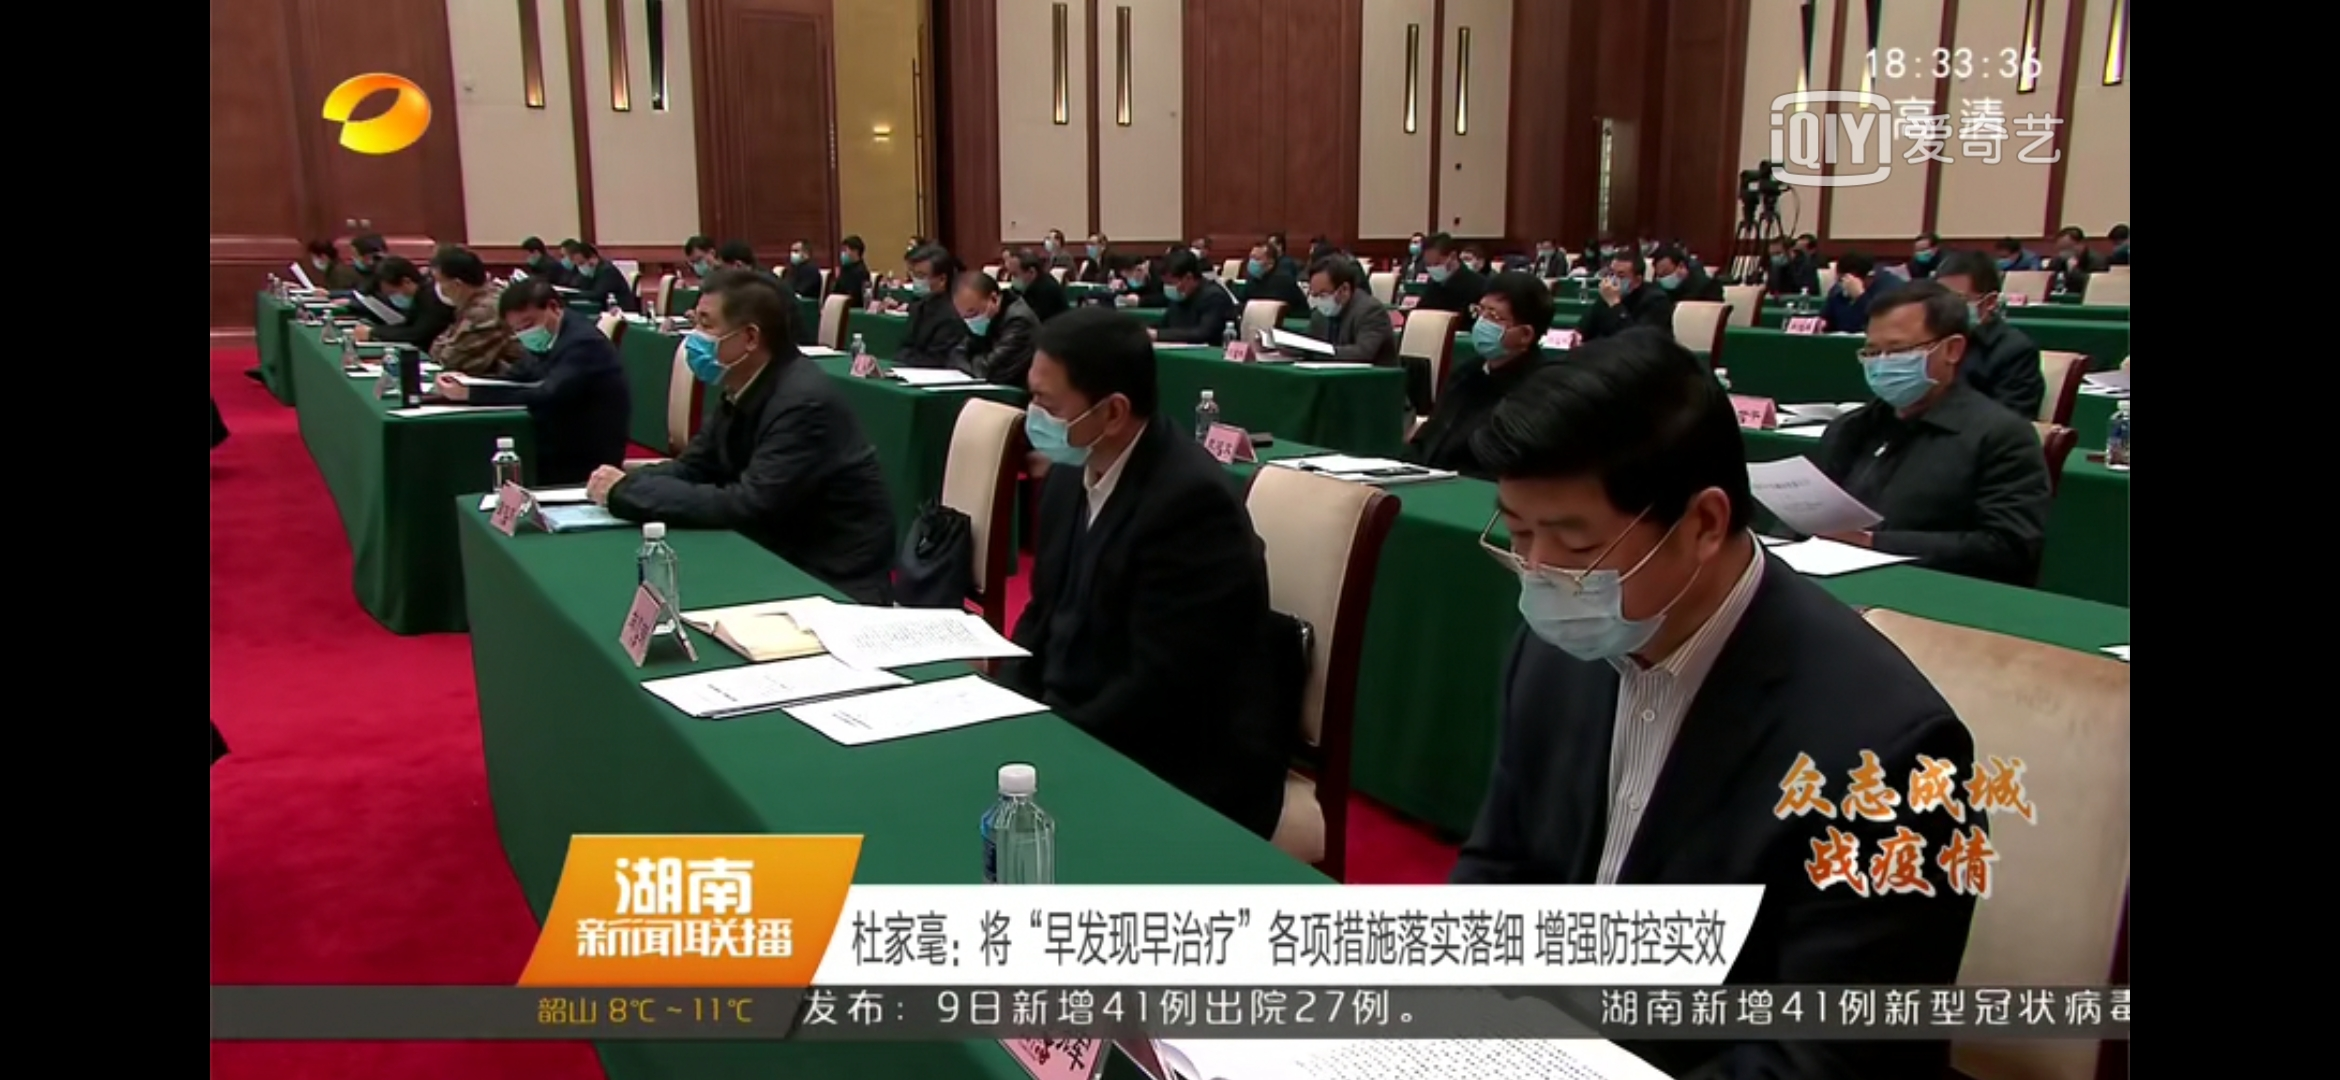correctlyWear: (1500, 483, 1731, 662), (1019, 365, 1145, 482), (1855, 313, 1968, 415), (683, 310, 772, 388), (1470, 295, 1536, 360), (506, 304, 563, 360), (958, 292, 1003, 340), (1307, 277, 1354, 319), (1158, 270, 1198, 306), (434, 269, 470, 304), (1604, 263, 1643, 295), (910, 269, 948, 301), (388, 269, 416, 309), (1657, 258, 1688, 292), (1422, 252, 1457, 283), (1012, 257, 1039, 292), (1248, 248, 1276, 280), (688, 242, 712, 274), (1995, 240, 2021, 269), (351, 243, 375, 271), (1913, 240, 1939, 266), (2058, 236, 2083, 261), (786, 242, 809, 266), (840, 239, 860, 266), (1768, 242, 1789, 266), (312, 246, 331, 271), (578, 248, 594, 276), (525, 239, 542, 266), (1086, 237, 1106, 260), (563, 242, 578, 270), (1045, 233, 1063, 252), (1410, 236, 1421, 257)
